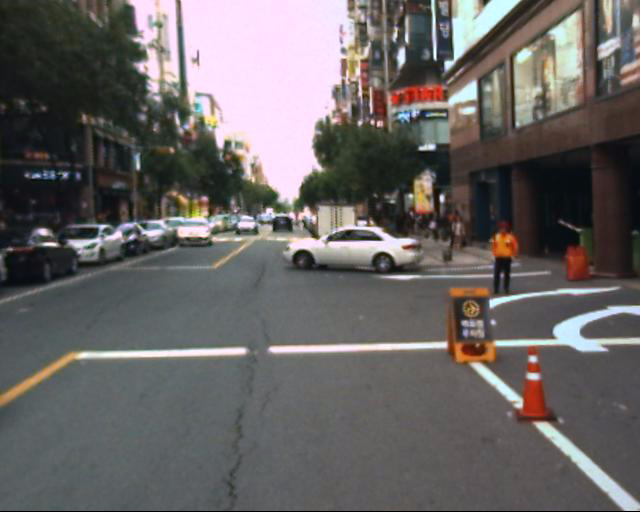person: (383, 189, 475, 257), (486, 212, 523, 302), (446, 208, 471, 258)
